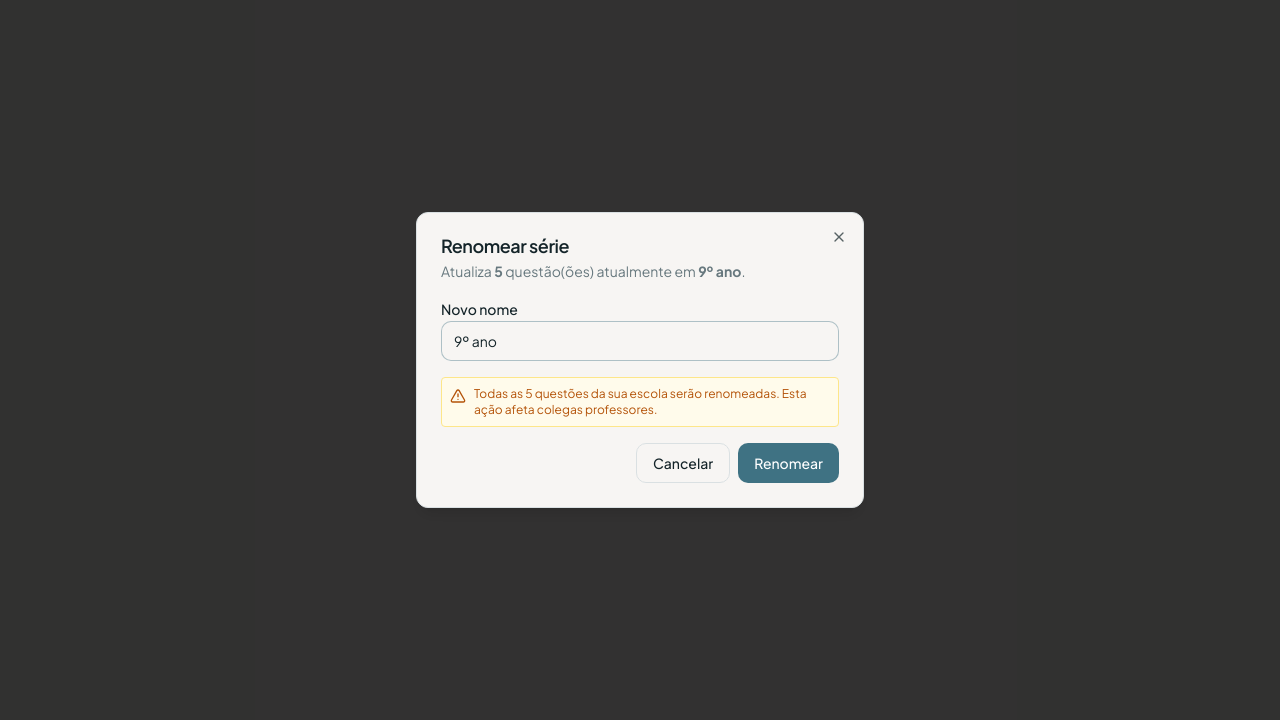
Scenario: RenameFolderDialog › blocks rename with empty name (shows error toast)
The width and height of the screenshot is (1280, 720).
Step 1. Clear the field showing "9º ano" → (640, 341), box [441,321,839,361]
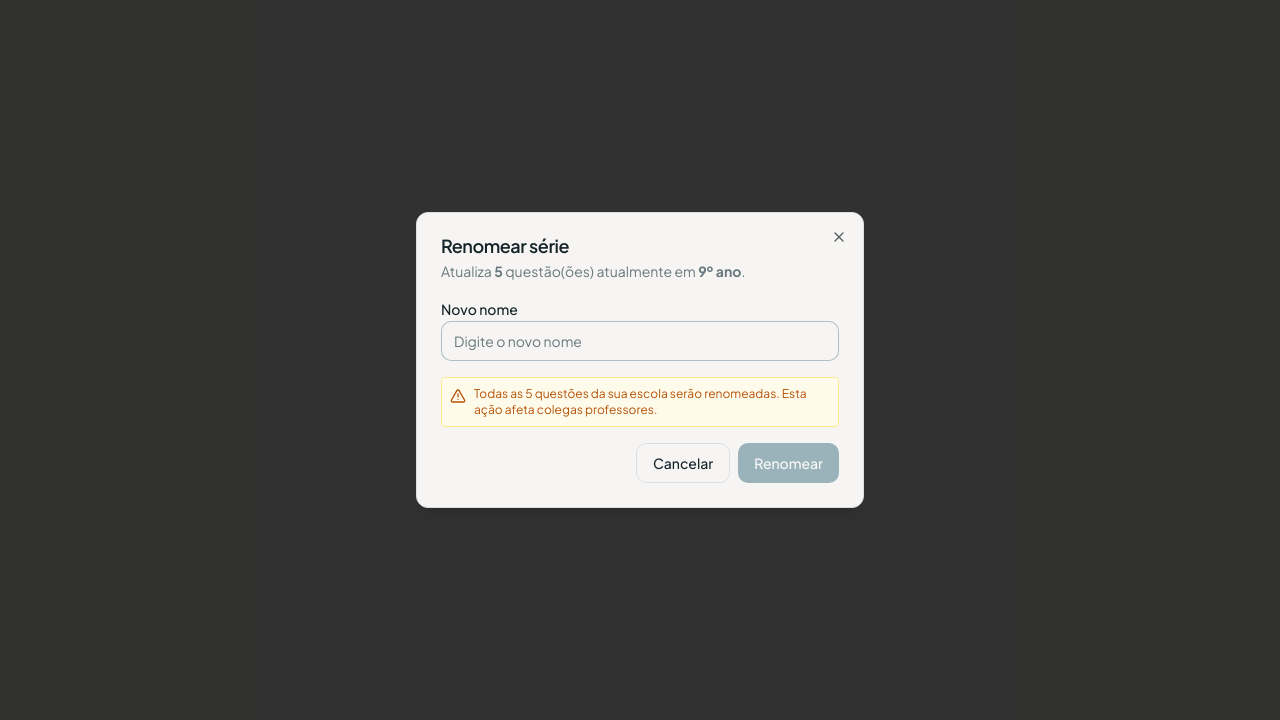
Expected: the button "Renomear" is disabled, [738,443,839,483]
